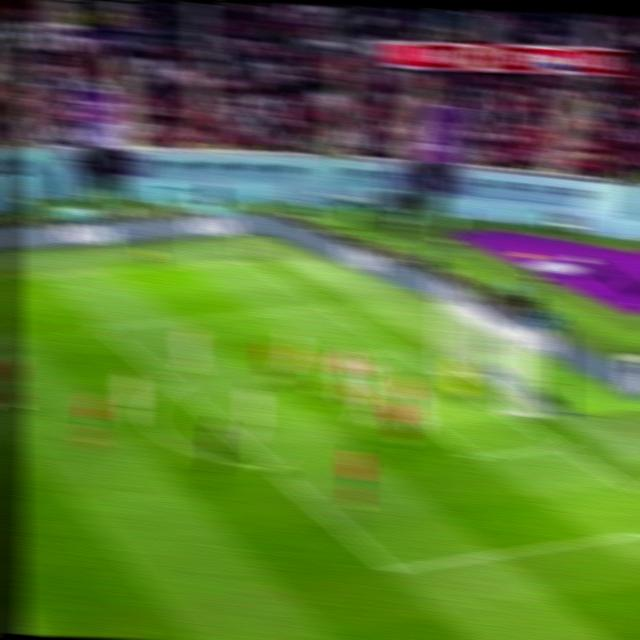bigarea_bottom_inner: (376, 554, 409, 582)
bigarea_top_inner: (90, 316, 117, 337)
bigarea_top_outter: (312, 294, 339, 315)
bottom_arc_area_intersection: (257, 456, 289, 479)
corner: (233, 251, 262, 267)
smallarea_bottom_inner: (460, 442, 492, 470)
smallarea_bottom_outter: (547, 433, 578, 458)
smallarea_top_inner: (315, 347, 343, 368)
smallarea_top_outter: (388, 338, 414, 359)
top_arc_area_intersection: (161, 373, 188, 395)
